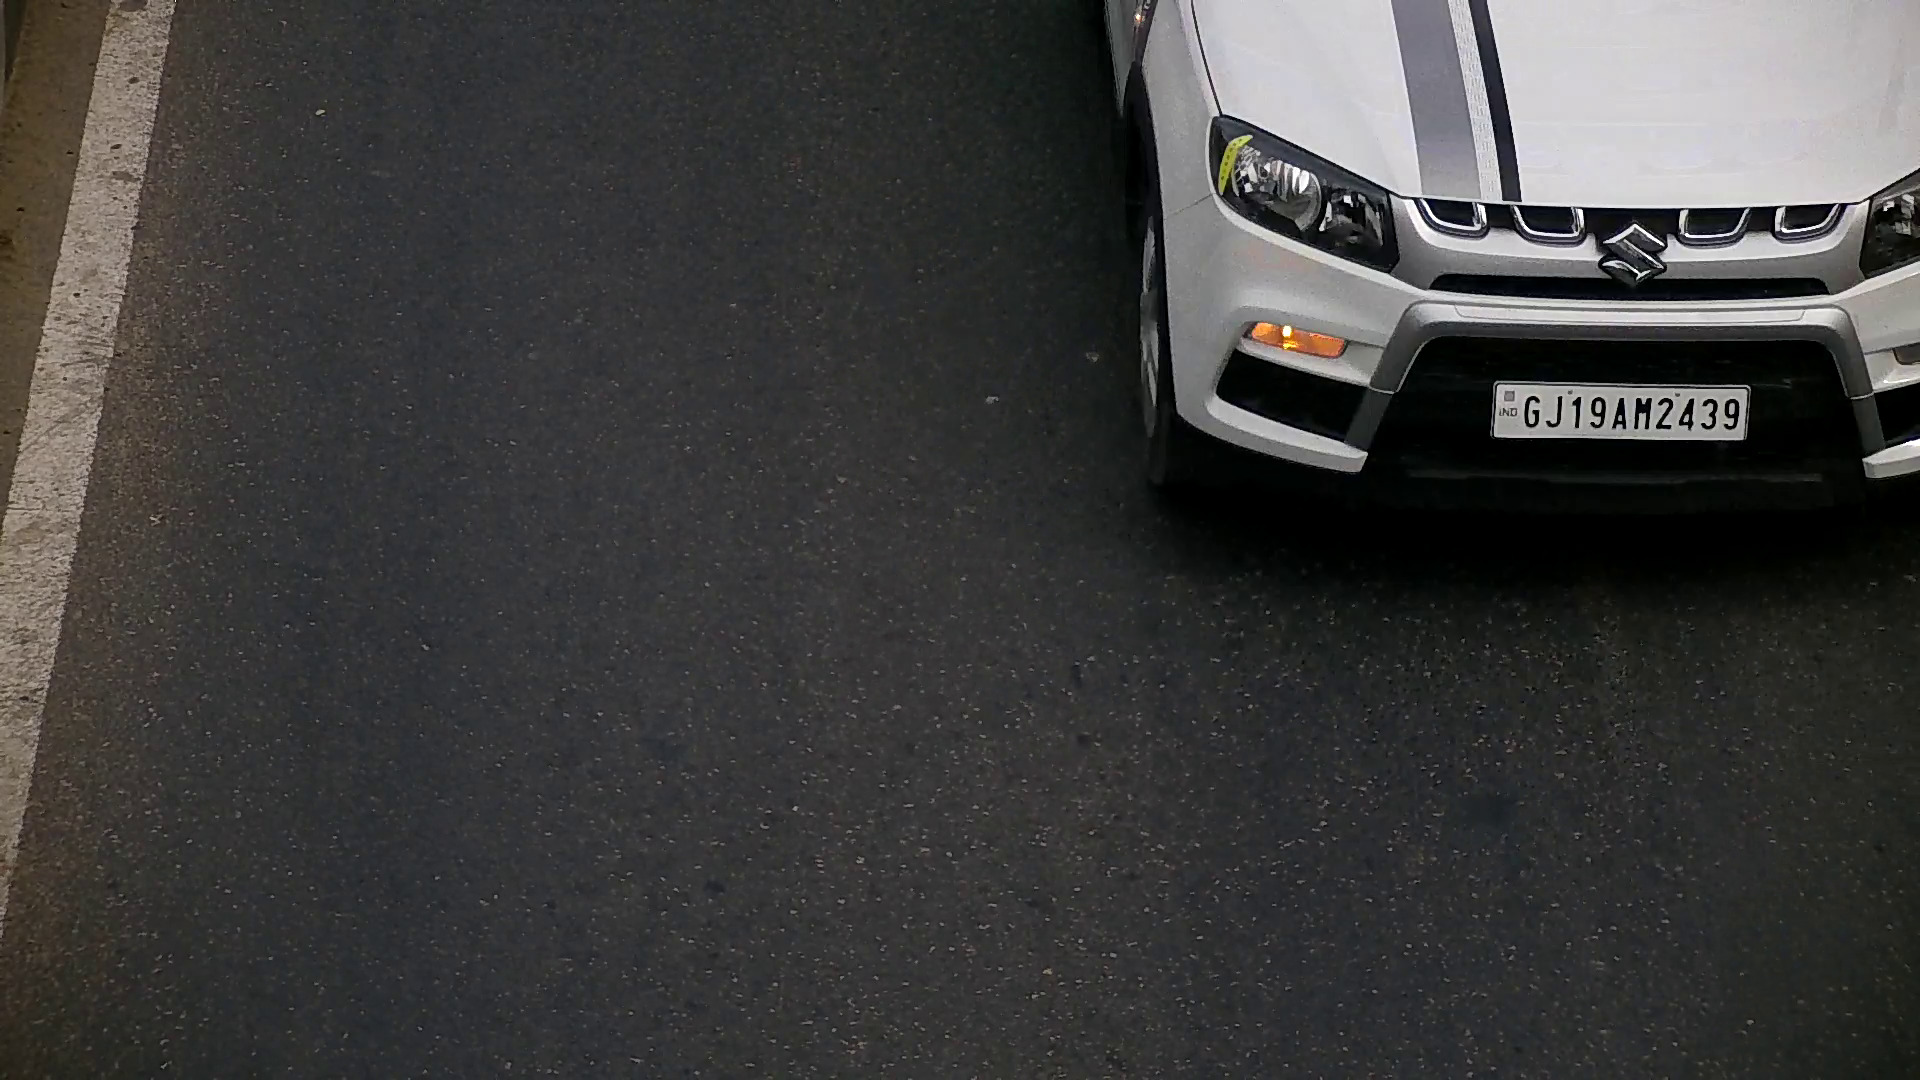numberplate: (1484, 372, 1751, 448)
